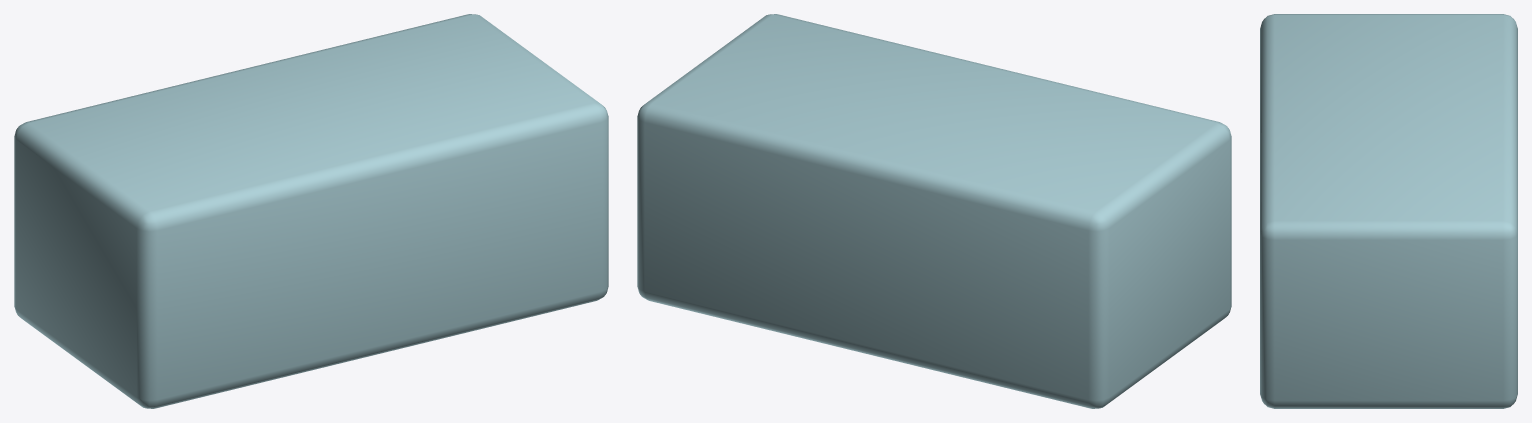
The model's file is rectangular brick.fbx.
The picture shows the model from 3 angles, left to right: view 1: azimuth 30°, elevation 25°; view 2: azimuth 150°, elevation 25°; view 3: azimuth 270°, elevation 25°; orthographic projection. The views are drawn at different scales.
Visible parts, largest first — view 1: Cube.012; view 2: Cube.012; view 3: Cube.012.
Part boxes in pixels (x1,y1,x2,y2): Cube.012: (14,14,608,408); Cube.012: (637,14,1231,408); Cube.012: (1260,14,1517,408).
Size of the model in its own units: 4 by 1.6 by 2.
